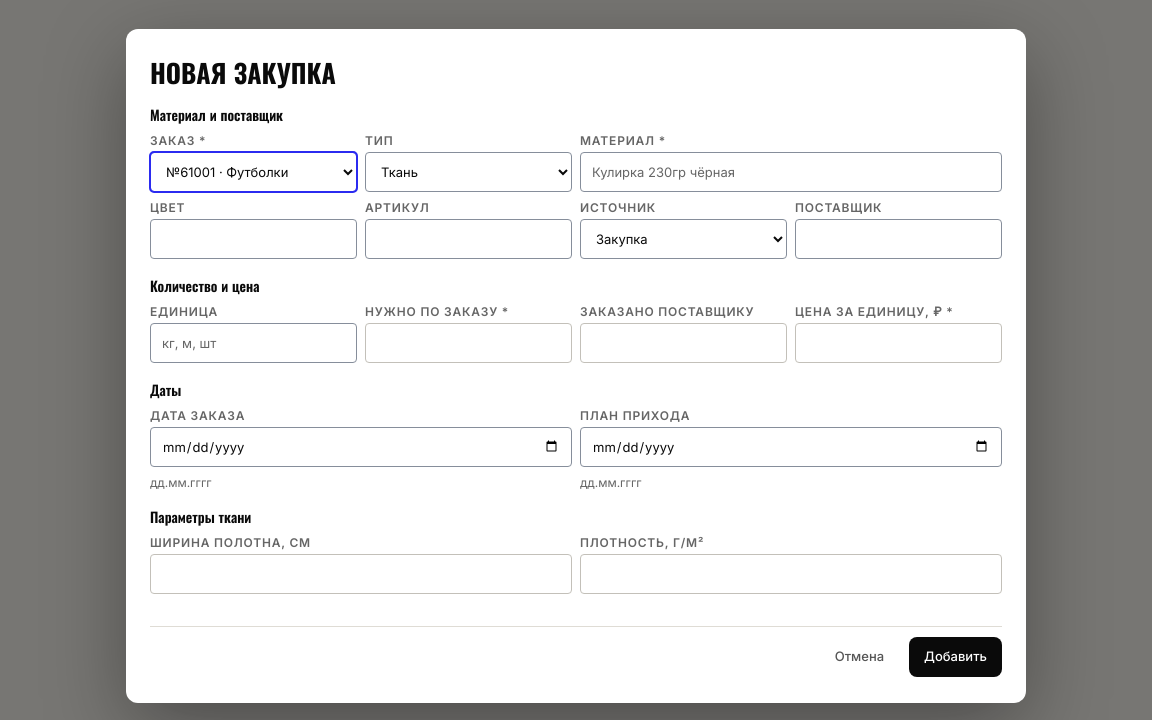
it: AddPurchaseModal — правка 05.10 › ткань → готовое изделие: поля ткани скрываются, появляется сетка
Expected: the number field labelled "Ширина полотна, см" is shown, [150,554,572,594]
Expected: the field labelled "Готовое изделие из позиции заказа" is not shown
Select "Готовое изделие" in the dropdown named "Тип материала" at (468, 172), box [365,152,572,192]
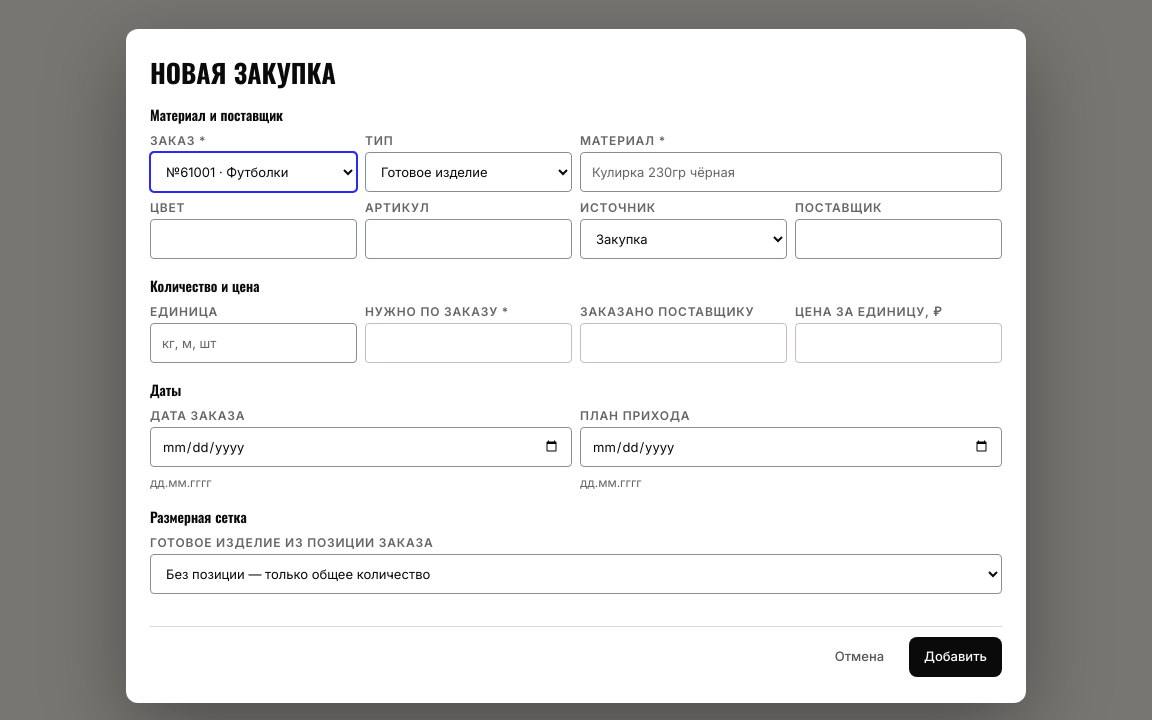
Result: the text labelled "Ширина полотна, см" is gone
Result: the text labelled "Плотность, г/м²" is gone
Result: the element "Размерная сетка" is shown at [150,506,1002,594]
Select "Футболка белая — 30 шт" in the dropdown labelled "Готовое изделие из позиции заказа" at (576, 574), box [150,554,1002,594]
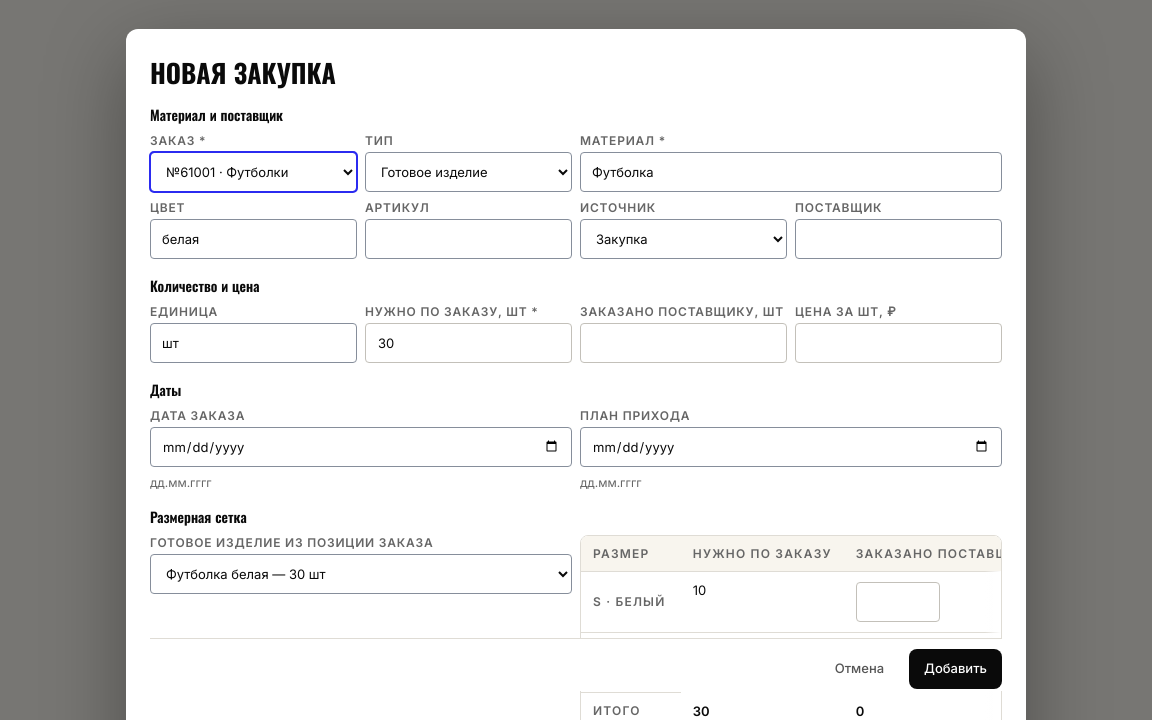
Result: the number field named "S · белый, Заказано поставщику" is shown at [856,582,940,622]
Result: the number field named "M · белый, Заказано поставщику" is shown at [856,643,940,683]
